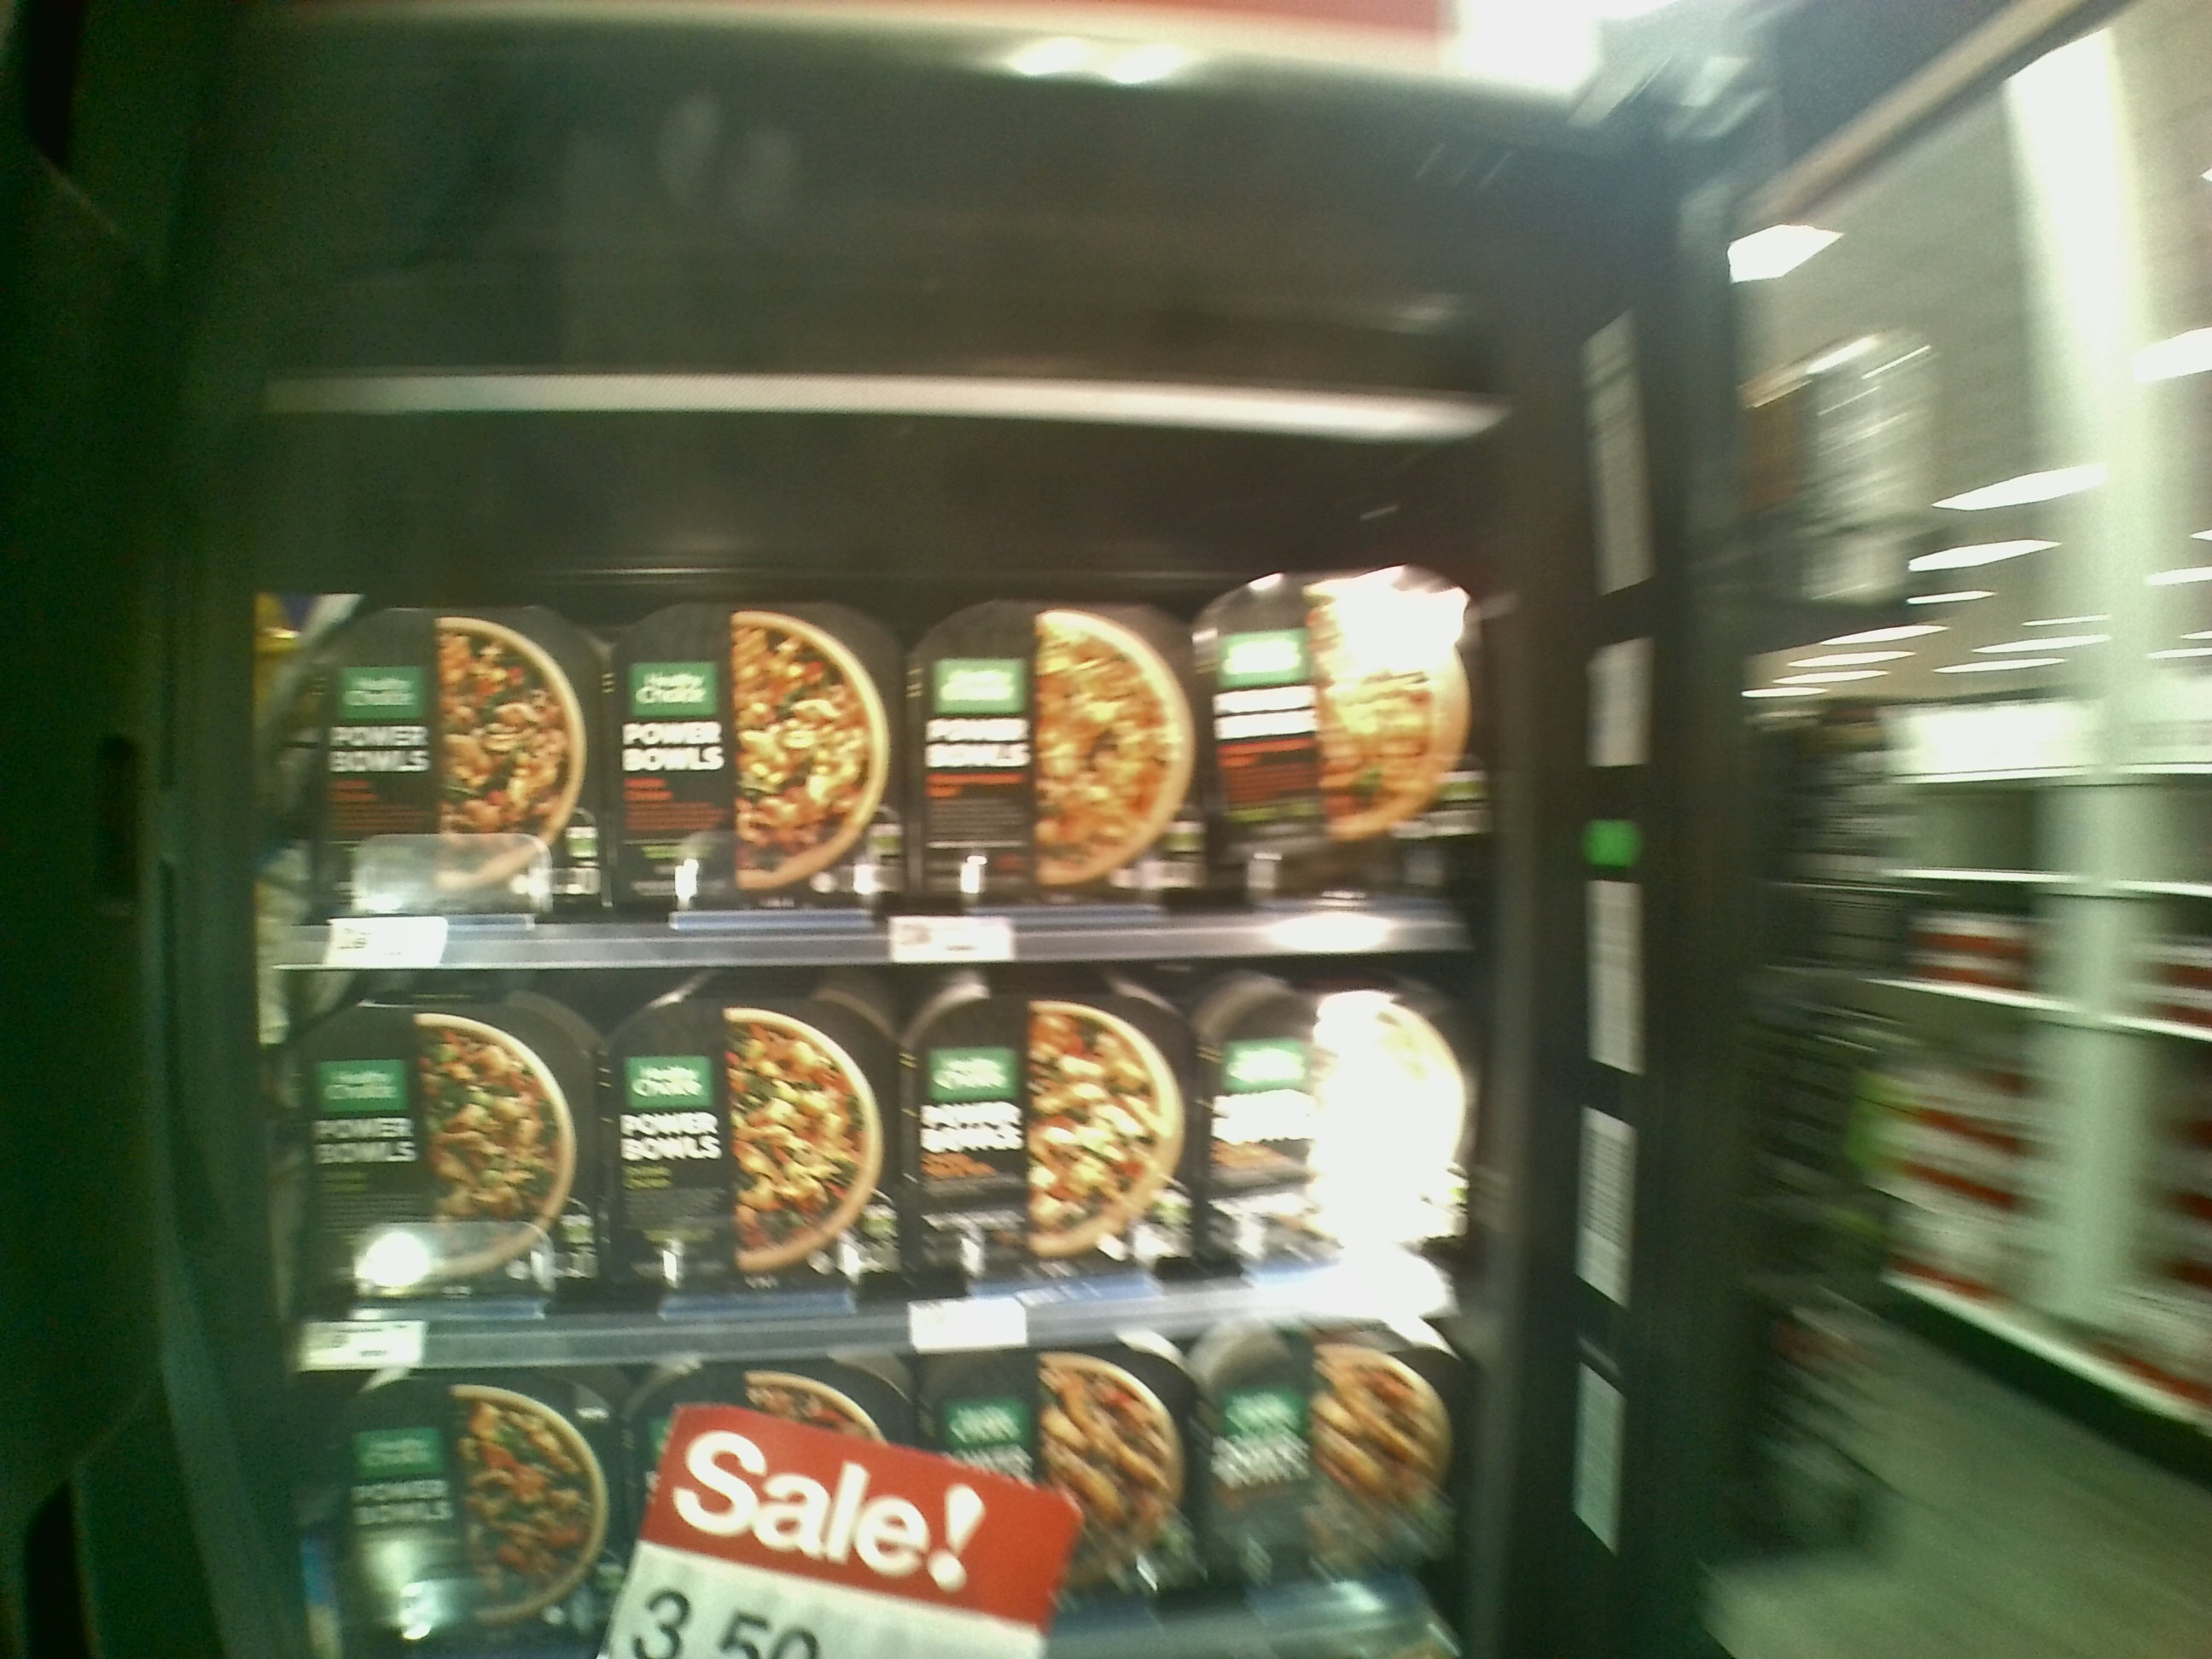shelf: (265, 404, 1500, 962)
